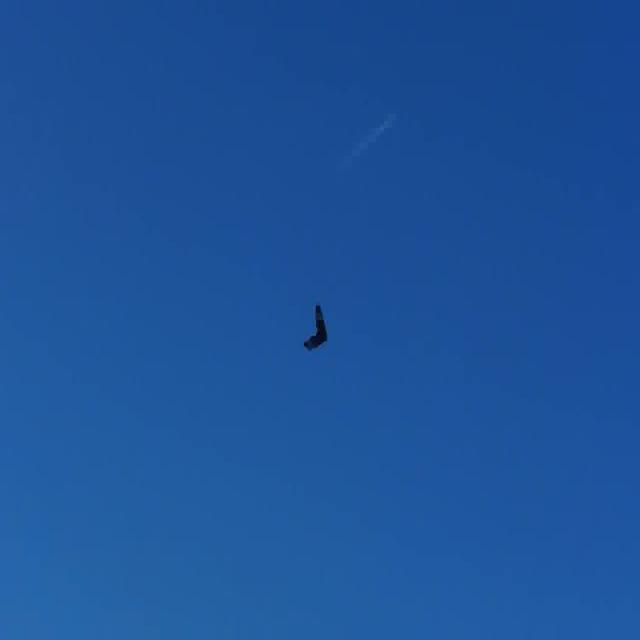iha: (299, 322, 331, 324)
